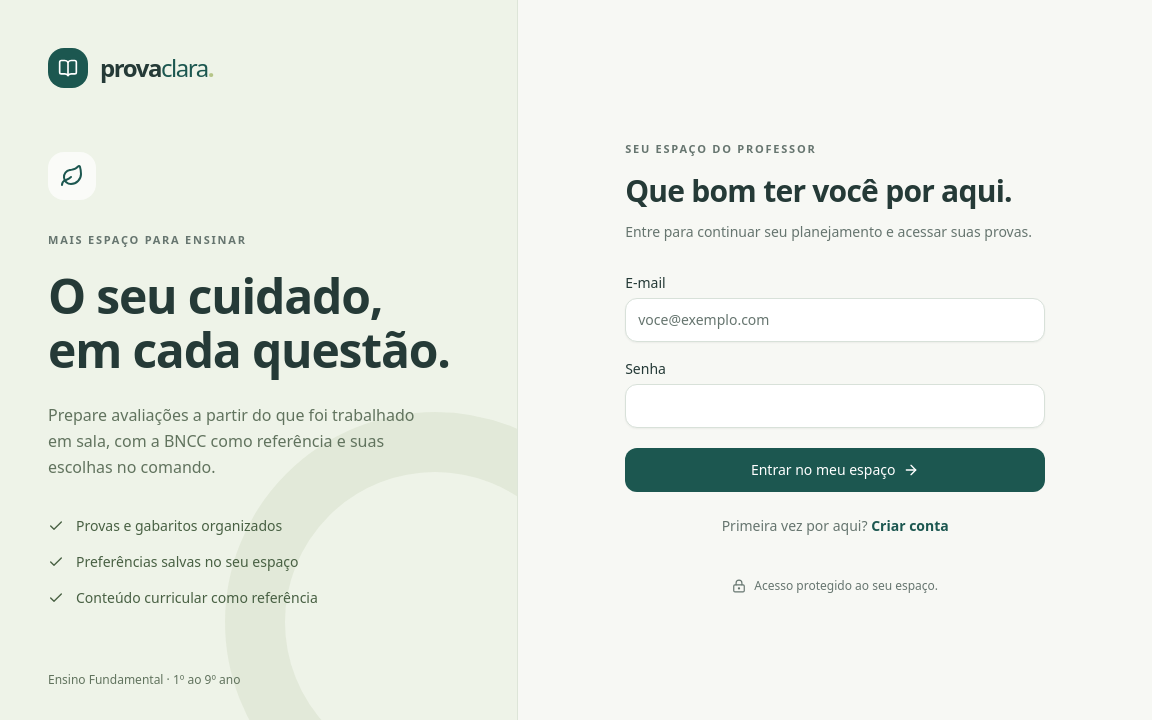
autenticação pela API › apresenta erro de credenciais sem entrar na área privada
This screenshot has width=1152, height=720.
Step 1. Type "marina@example.test" into the field labelled "E-mail" → (835, 320), box [625, 298, 1045, 342]
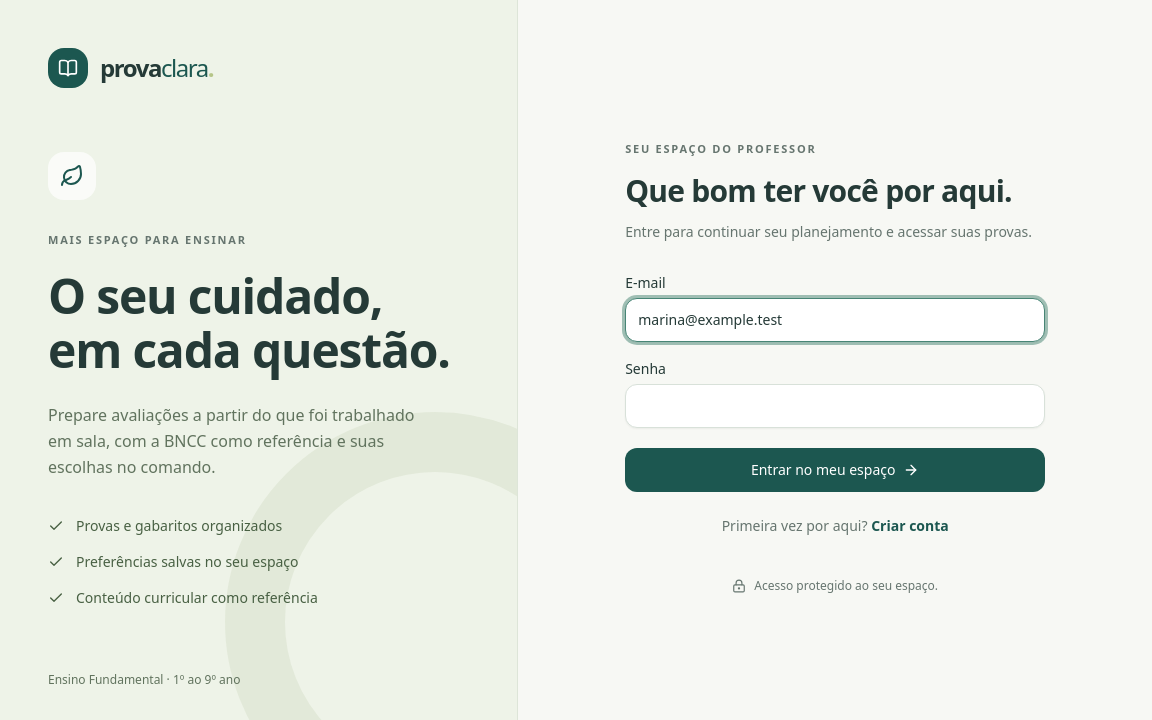
Step 2. Type "incorreta" into the password field labelled "Senha" → (835, 406), box [625, 384, 1045, 428]
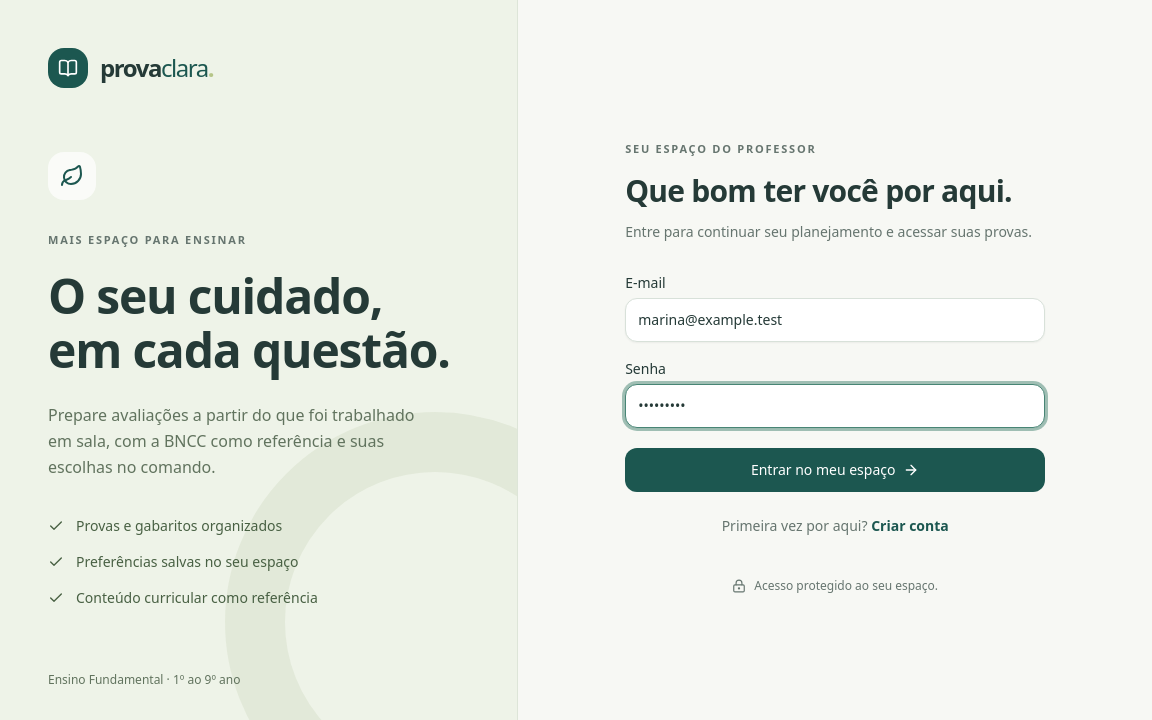
Step 3. Click the button "Entrar no meu espaço" → click(835, 470), box [625, 448, 1045, 492]
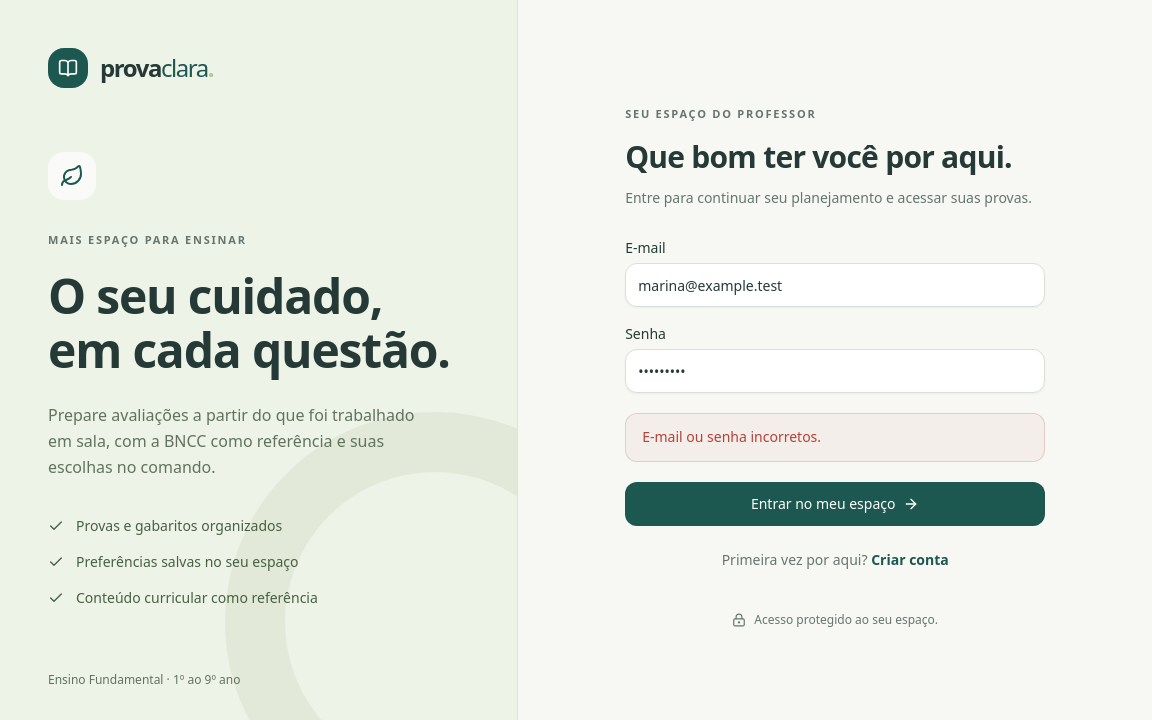
Expected: the message shows "E-mail ou senha incorretos", [642, 428, 821, 446]
